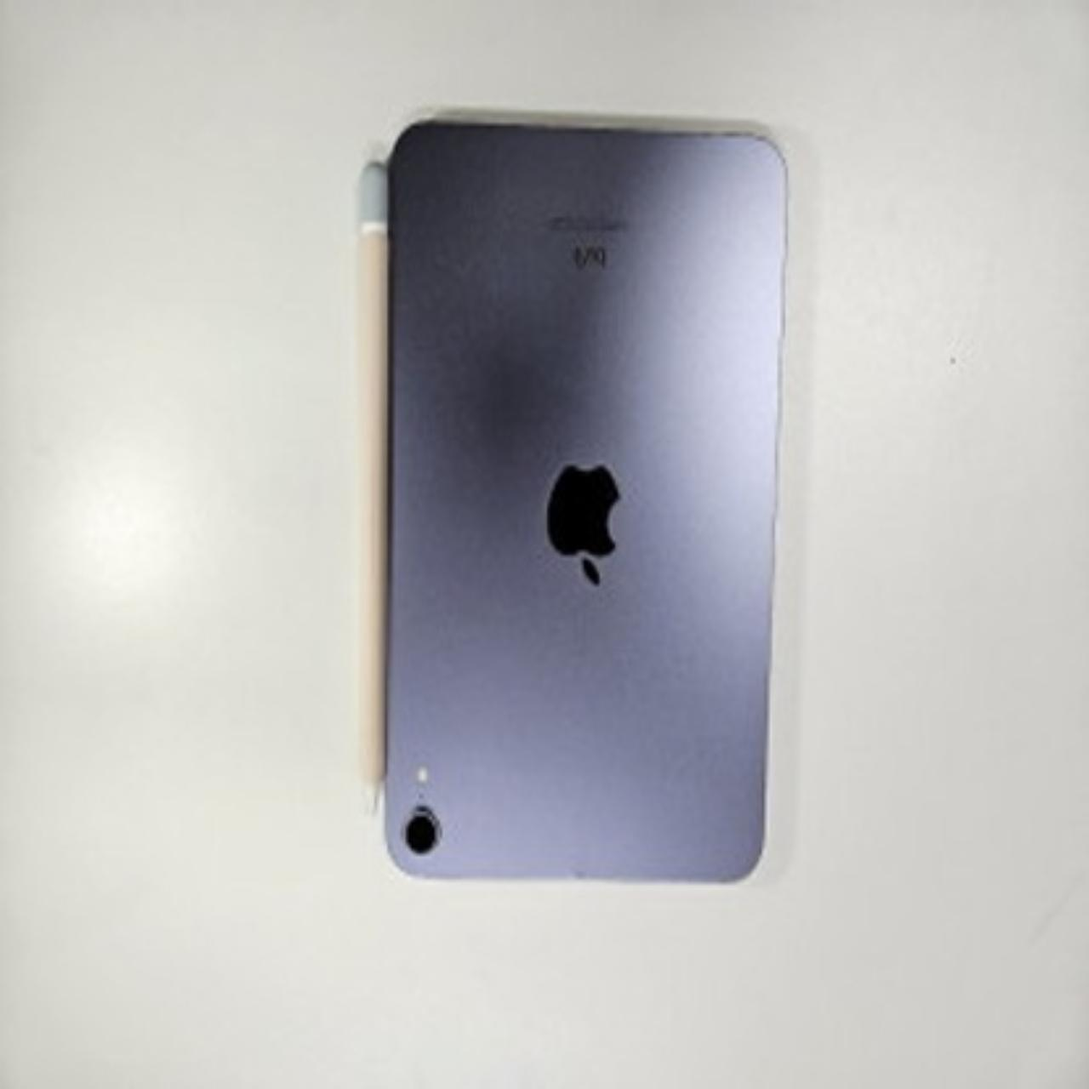Tablet_PC: (351, 102, 814, 895)
